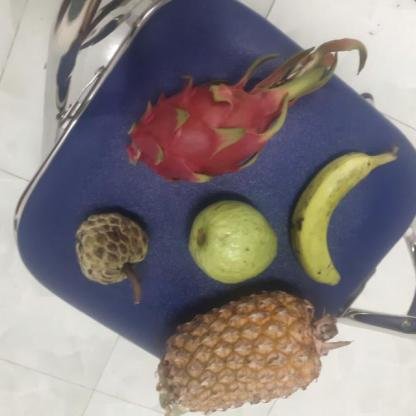annona: (70, 211, 147, 286)
banana: (288, 148, 380, 285)
guava: (183, 199, 278, 280)
pineapple: (155, 285, 324, 414)
pitaya: (119, 76, 284, 184)
